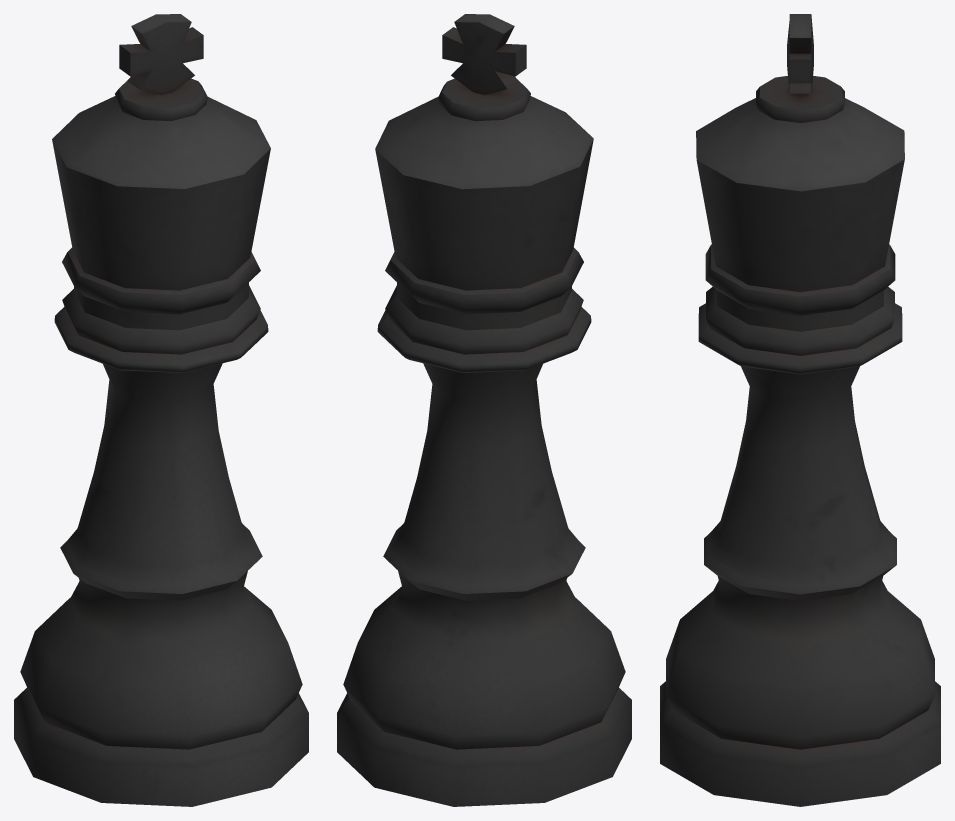
The model's file is item-5.glb.
3 renders of one model, left to right at view 1: azimuth 30°, elevation 25°; view 2: azimuth 150°, elevation 25°; view 3: azimuth 270°, elevation 25°, orthographic.
Parts seen in each view (by area): view 1: BlackKing; view 2: BlackKing; view 3: BlackKing.
Boxes of the visible parts, x1=… form: BlackKing: x1=14, y1=14, x2=308, y2=806; BlackKing: x1=337, y1=14, x2=631, y2=806; BlackKing: x1=660, y1=14, x2=940, y2=806.
Bounding box in the file's own units: 0.0886 × 0.2399 × 0.0843.
1 material, 1 textured.
